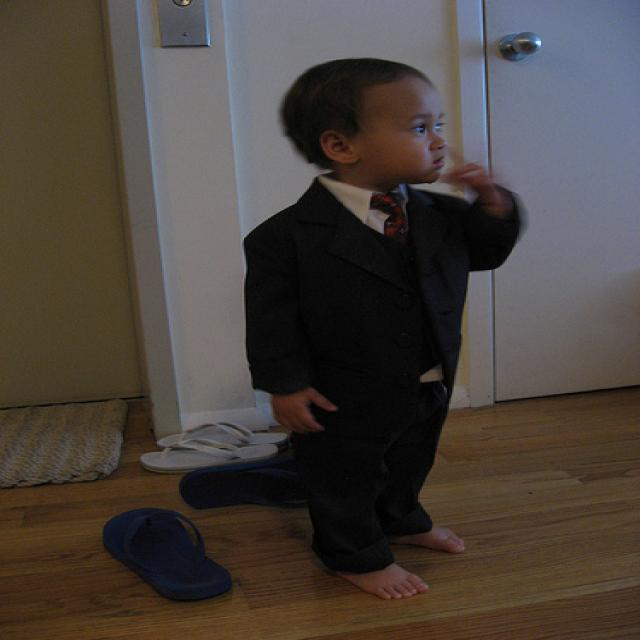child: (240, 56, 522, 598)
